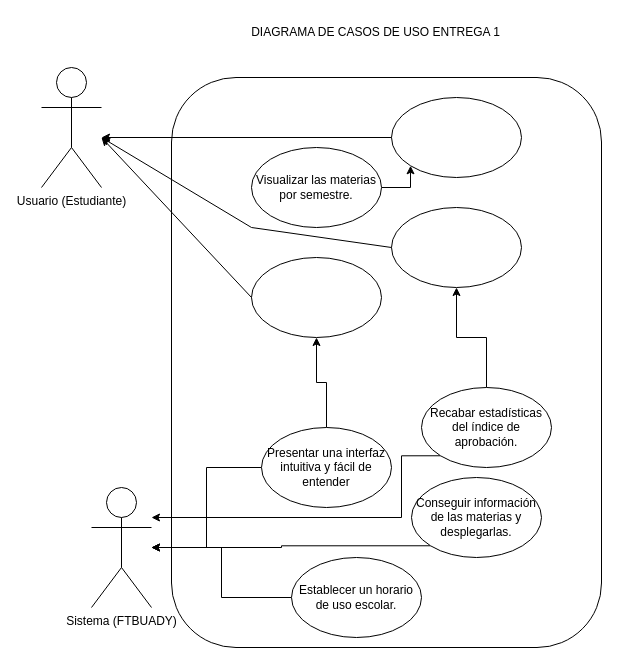
The diagram is 619 pixels wide and 665 high, and some of its shapes have lost their labels. The shapes that lost their labels are listed below. From the top down, each one's centre as x and y in pixels, then its label:
At [456,137]: "Consultar información de las materias.".
At [456,247]: "Consultar la información de aprobados y reprobados.".
At [316,297]: "Acceder de forma fácil a la información".
